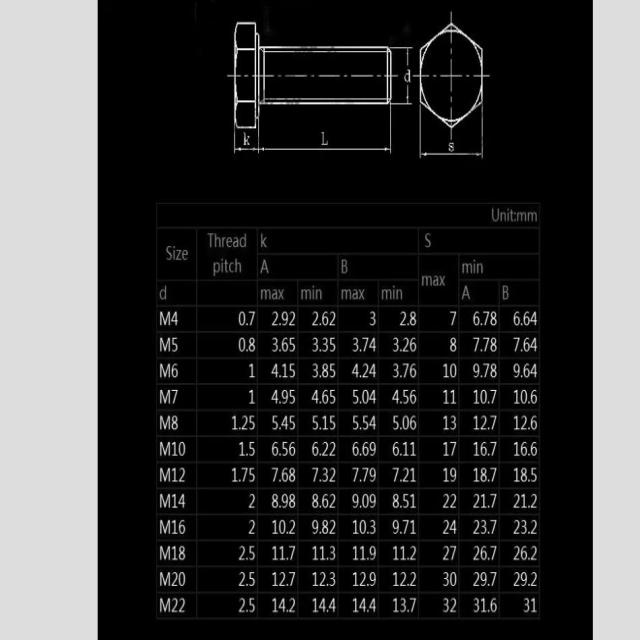marking_line: (258, 147, 391, 152), (421, 150, 482, 157), (405, 83, 412, 104), (235, 146, 258, 152), (405, 50, 410, 67)
numeric: (471, 358, 501, 383), (471, 410, 499, 434), (269, 439, 298, 461), (390, 596, 419, 617), (310, 467, 339, 487), (510, 464, 539, 484), (352, 411, 378, 433), (352, 542, 378, 564), (271, 358, 298, 379), (350, 489, 377, 510), (392, 439, 419, 460), (352, 569, 380, 589), (471, 440, 499, 460), (310, 570, 339, 589), (474, 569, 500, 590), (271, 308, 298, 328), (269, 491, 296, 511), (472, 337, 502, 355), (472, 491, 499, 511), (513, 413, 540, 433), (310, 413, 338, 432), (310, 545, 341, 562), (393, 490, 418, 511), (470, 518, 499, 536), (512, 387, 541, 405), (311, 440, 337, 460), (312, 519, 338, 539), (473, 466, 499, 486), (513, 517, 539, 537), (351, 595, 378, 614), (514, 571, 541, 590), (231, 412, 255, 433), (231, 463, 255, 484), (398, 307, 419, 331), (352, 518, 377, 538), (474, 595, 499, 615), (268, 389, 299, 405), (272, 545, 298, 564), (393, 337, 419, 356), (472, 308, 498, 327), (269, 415, 298, 432), (308, 491, 337, 508), (349, 387, 378, 404), (513, 439, 542, 456), (393, 362, 420, 380), (474, 544, 498, 564), (512, 545, 540, 562), (353, 334, 378, 353), (311, 336, 337, 354), (392, 413, 418, 431), (513, 310, 542, 326), (236, 307, 257, 329), (269, 598, 296, 615), (514, 493, 541, 510), (313, 309, 337, 328), (392, 569, 416, 588), (238, 334, 256, 359), (353, 361, 378, 379), (270, 571, 298, 587), (511, 362, 539, 378), (309, 389, 338, 404), (350, 441, 377, 457), (392, 389, 419, 405), (392, 466, 416, 484), (272, 337, 297, 354), (272, 518, 297, 535), (239, 436, 258, 458), (473, 388, 497, 405), (273, 467, 298, 483), (392, 545, 417, 561), (439, 569, 459, 589), (312, 598, 335, 615), (351, 466, 377, 481), (391, 520, 417, 535), (512, 336, 539, 350), (313, 362, 338, 377), (238, 544, 256, 564), (443, 466, 463, 484), (439, 519, 459, 537), (441, 362, 460, 380), (440, 414, 459, 432), (442, 493, 459, 513), (442, 545, 459, 565), (522, 596, 538, 615), (239, 597, 255, 615), (364, 309, 377, 330), (444, 387, 457, 408), (239, 571, 255, 588), (442, 598, 457, 616), (441, 441, 457, 455), (447, 335, 459, 353), (247, 515, 257, 536), (448, 309, 459, 328), (248, 361, 257, 382), (248, 387, 256, 408), (249, 492, 257, 511)
